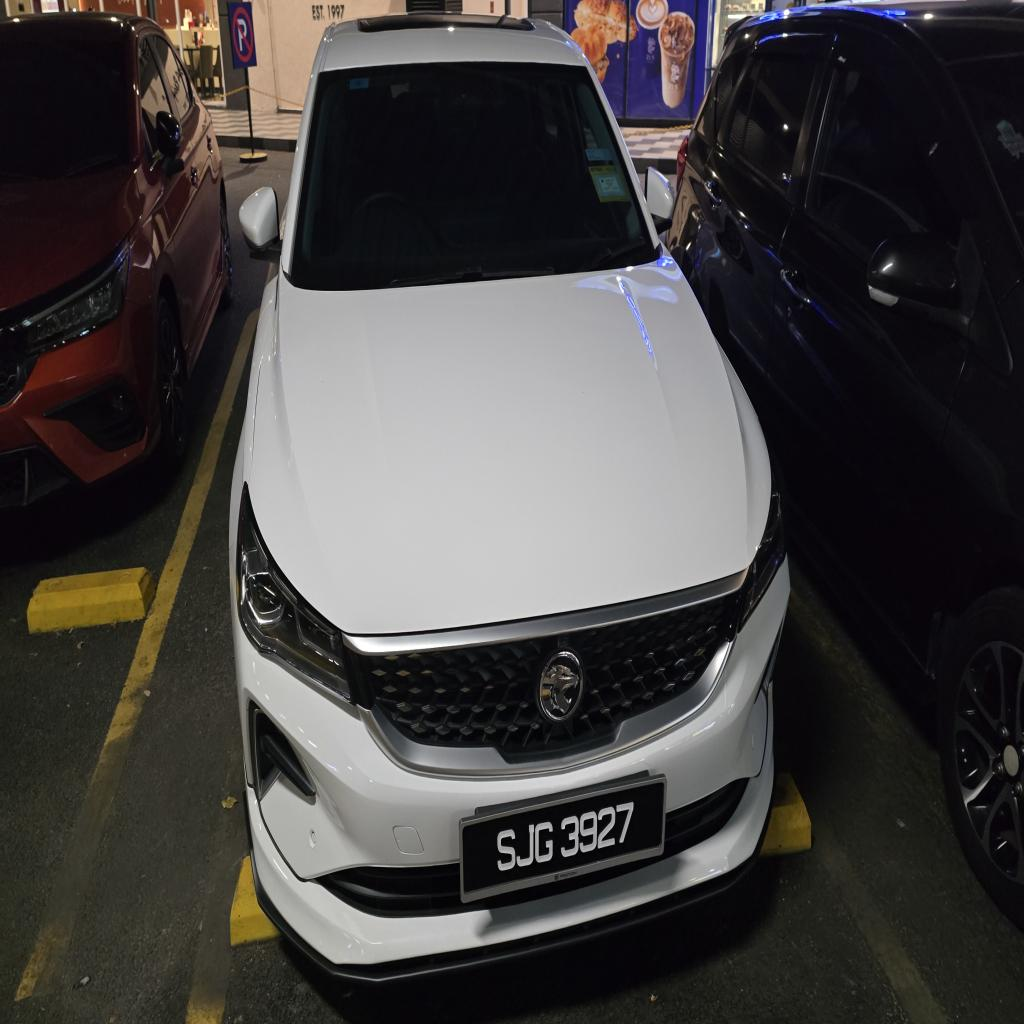car: (230, 15, 789, 979)
car plate: (460, 775, 665, 901)
